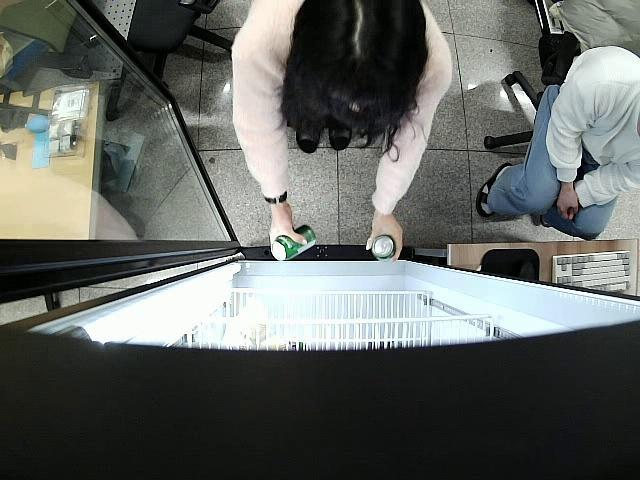12_chilsungCider: (272, 226, 316, 260), (371, 235, 396, 261)
